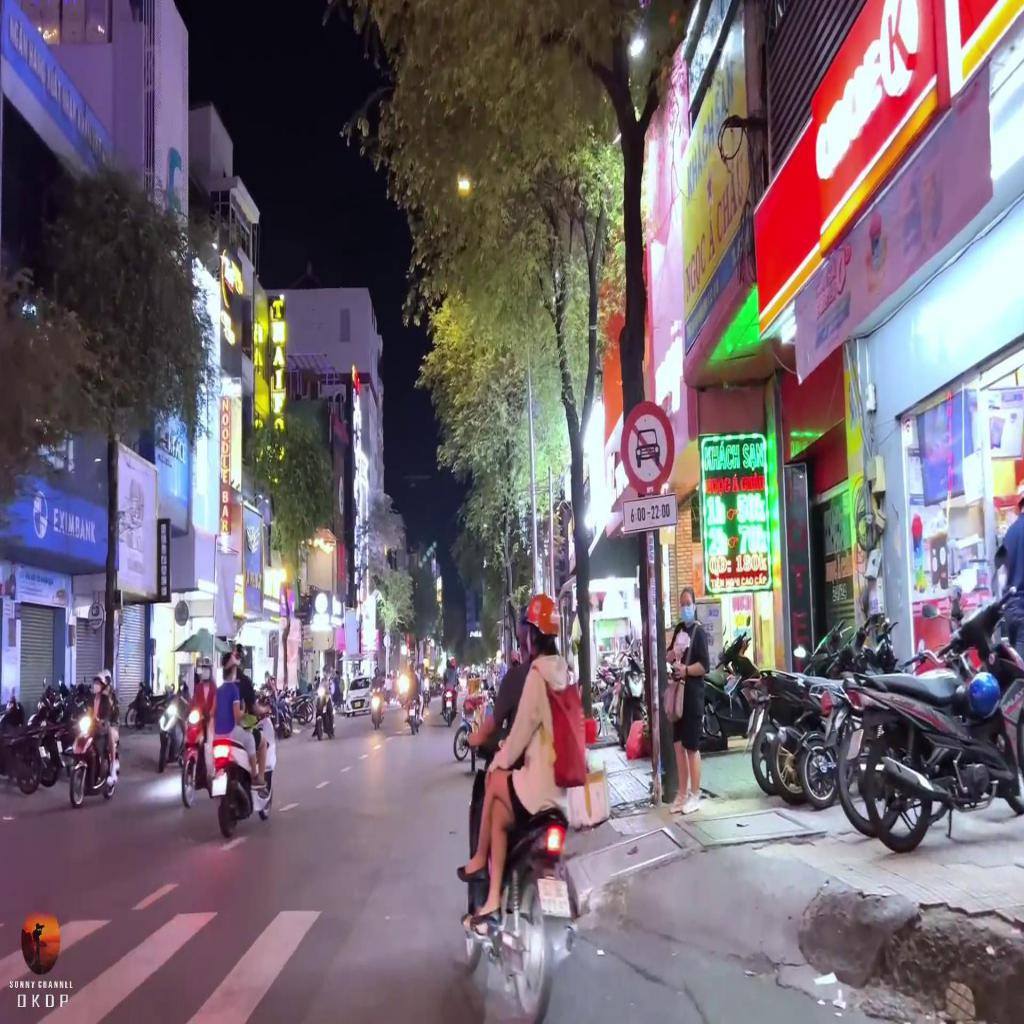cam_o_to: (618, 400, 675, 497)
khac: (622, 493, 677, 534)
